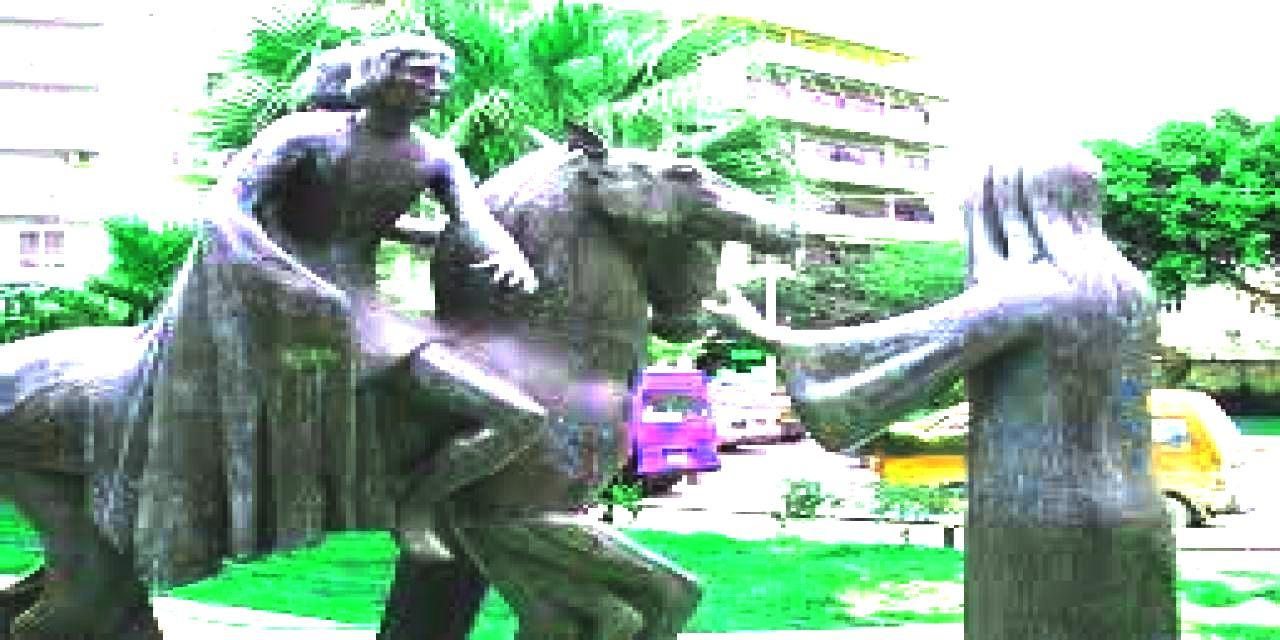Aretousa: (4, 34, 1180, 640)
